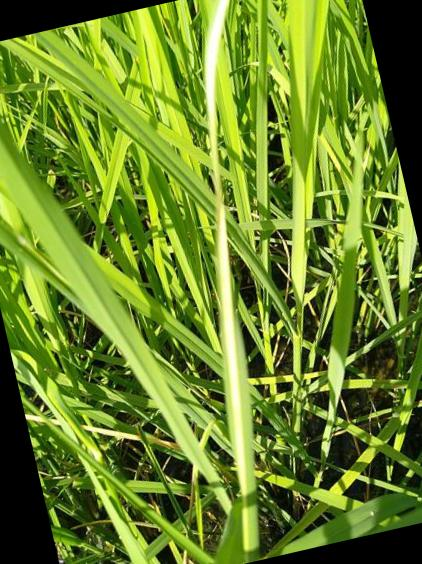Leaf Blight: (206, 0, 260, 555)
